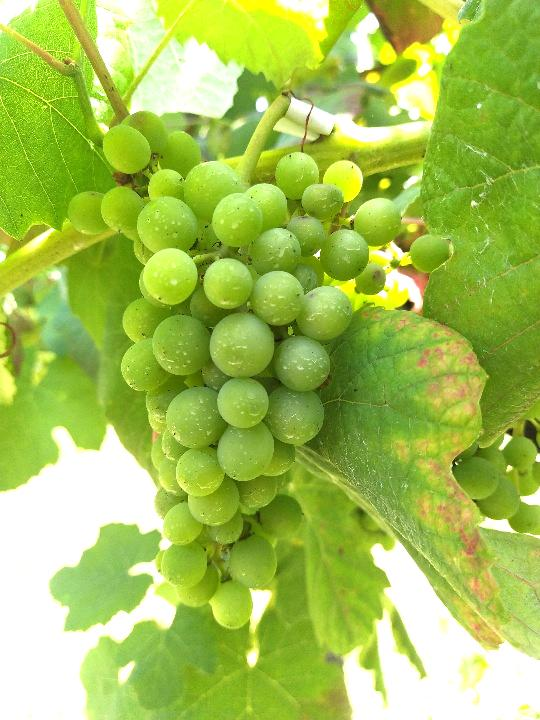grape: (63, 108, 453, 634)
